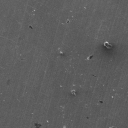corrosion: (103, 40, 113, 50), (86, 52, 94, 62), (57, 47, 65, 56), (33, 122, 44, 128), (69, 88, 77, 96), (98, 99, 105, 106), (27, 24, 34, 30), (65, 18, 71, 25)
